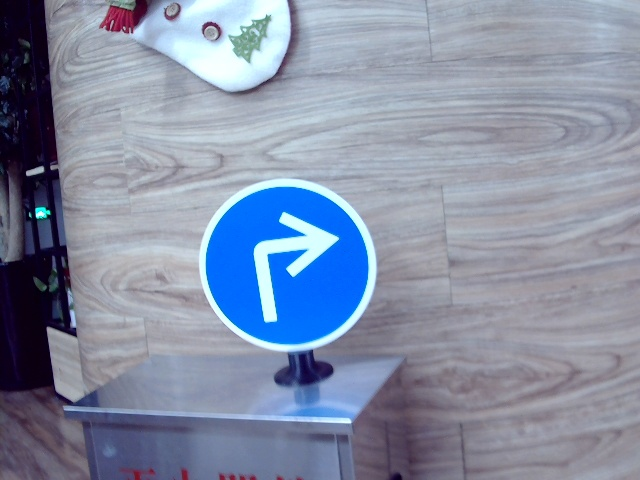turn_right: (235, 209, 337, 325)
